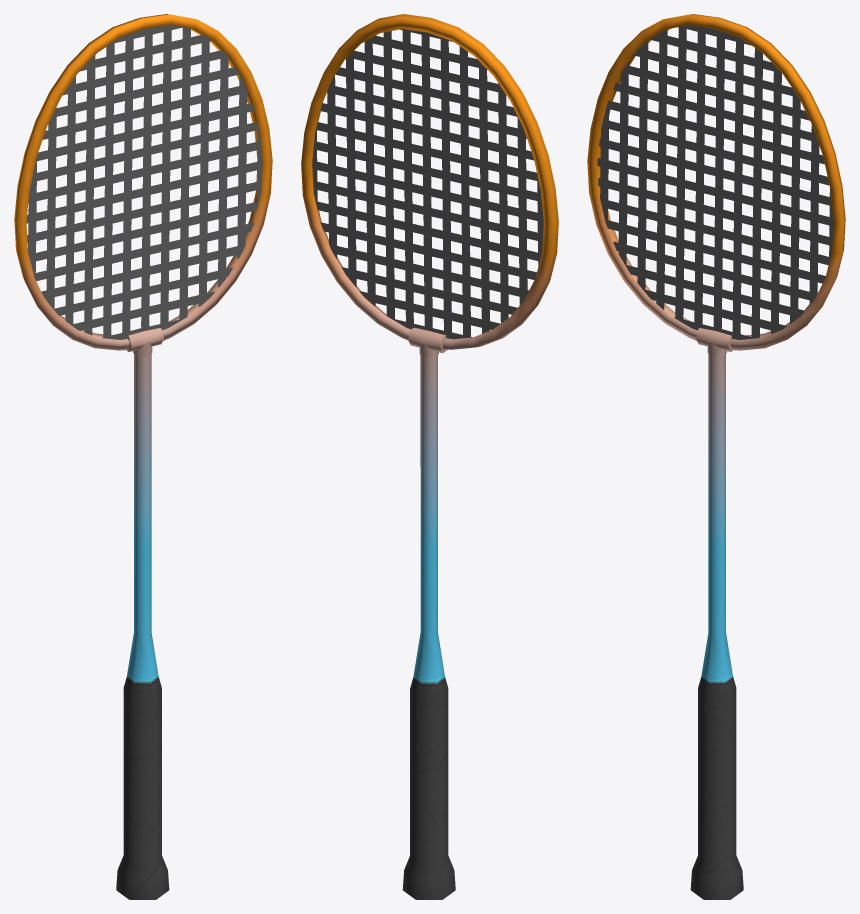
The model's file is Racket_01.fbx.
The picture shows the model from 3 angles, left to right: view 1: azimuth 30°, elevation 25°; view 2: azimuth 150°, elevation 25°; view 3: azimuth 330°, elevation 25°; orthographic projection.
Parts seen in each view (by area): view 1: Racket_01; view 2: Racket_01; view 3: Racket_01.
Boxes of the visible parts, x1=… form: Racket_01: x1=14, y1=14, x2=272, y2=899; Racket_01: x1=301, y1=14, x2=558, y2=899; Racket_01: x1=587, y1=14, x2=845, y2=899.
Bounding box in the file's own units: 21.03 × 68.51 × 3.78.
